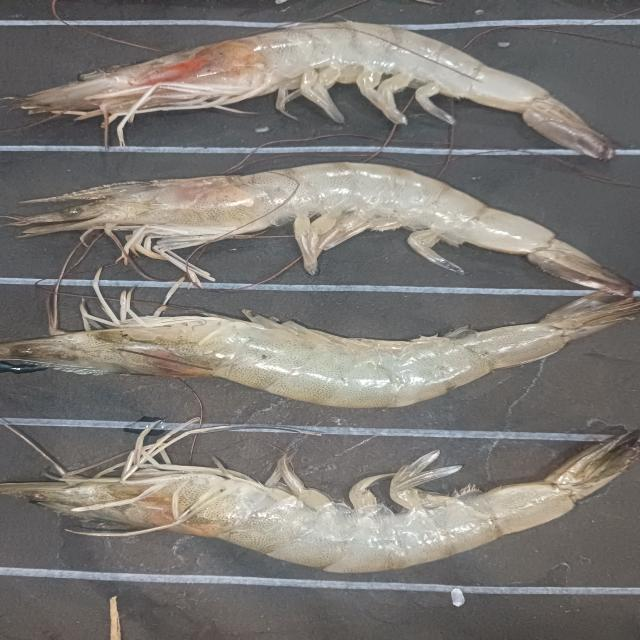shrimp: (2, 429, 639, 572), (7, 23, 612, 156), (14, 164, 635, 292), (2, 298, 638, 407)
